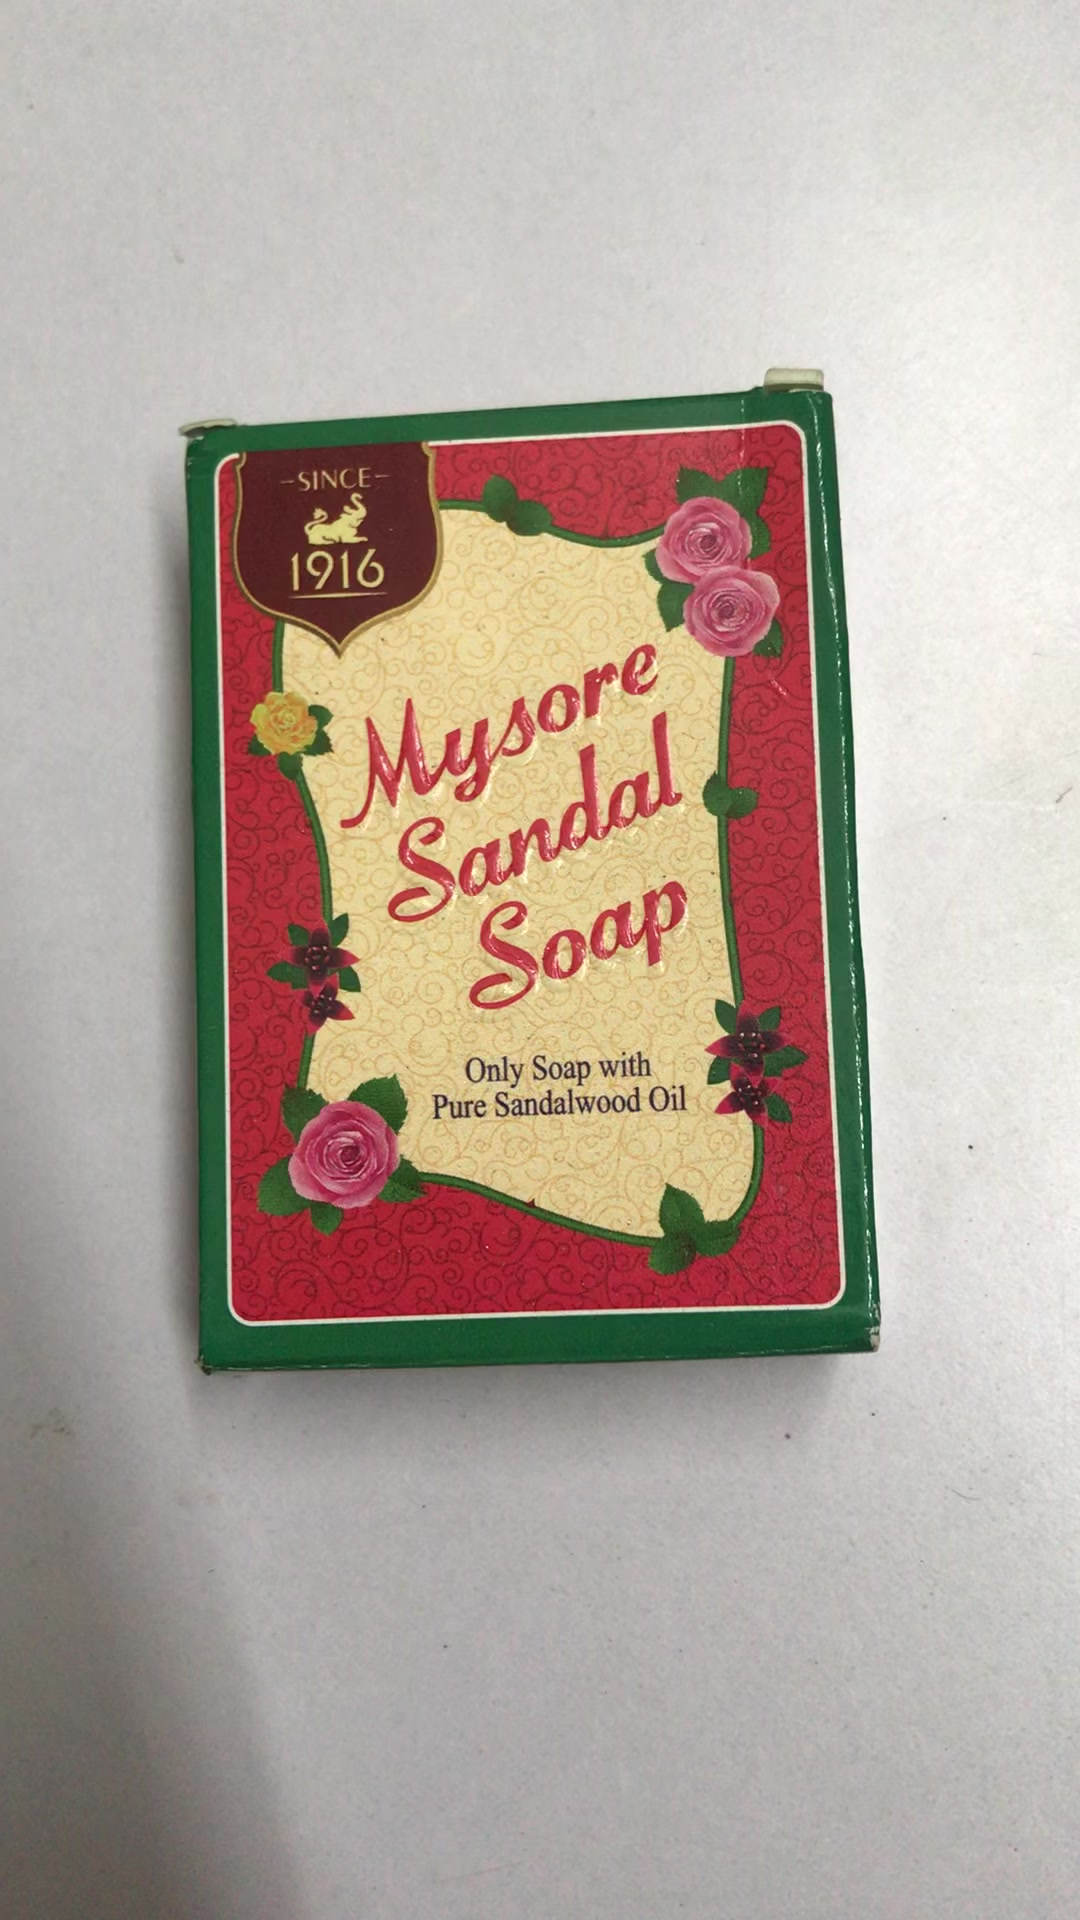mysore sandal soap: (178, 386, 870, 1377)
